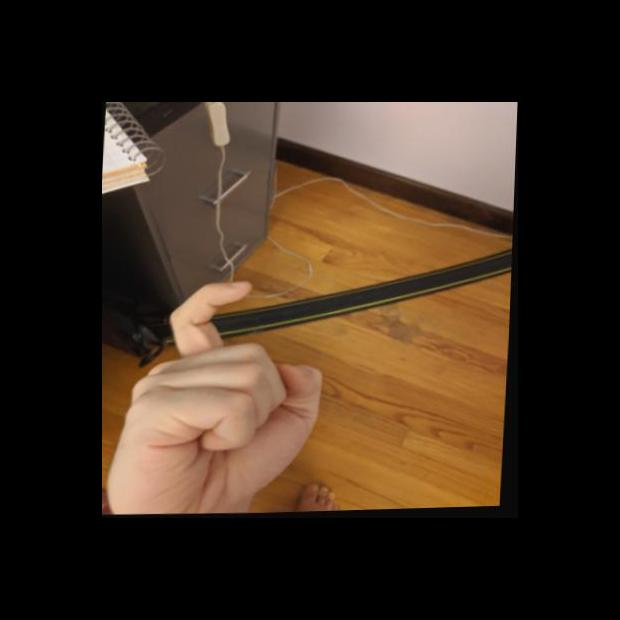W: (102, 273, 339, 517)
